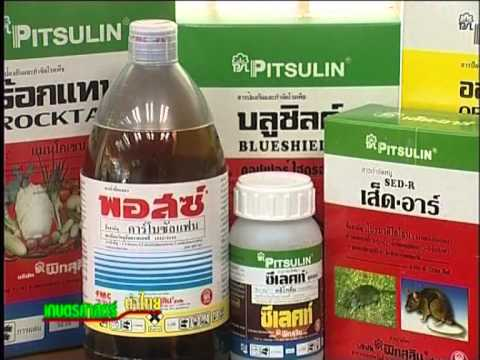Insecticide: (76, 16, 234, 360), (223, 167, 326, 360)
